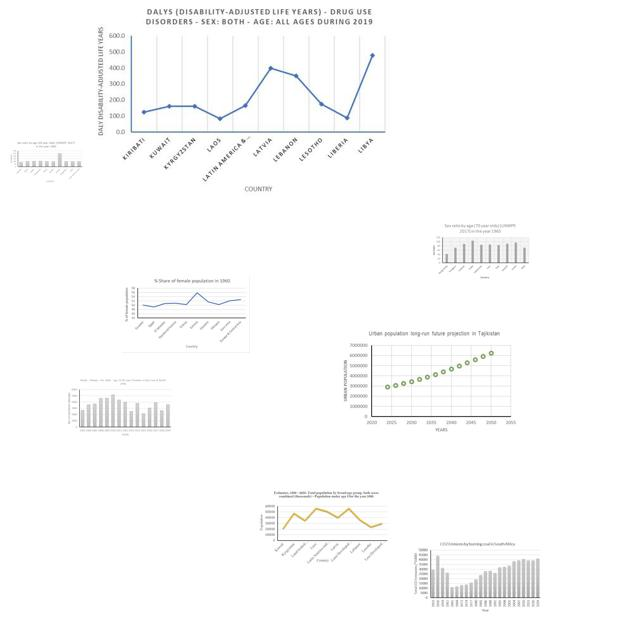Graph: (91, 3, 390, 199), (334, 328, 519, 437), (122, 275, 250, 353), (259, 489, 389, 565), (413, 541, 542, 613), (65, 377, 173, 438), (430, 222, 530, 281), (9, 140, 84, 183)
